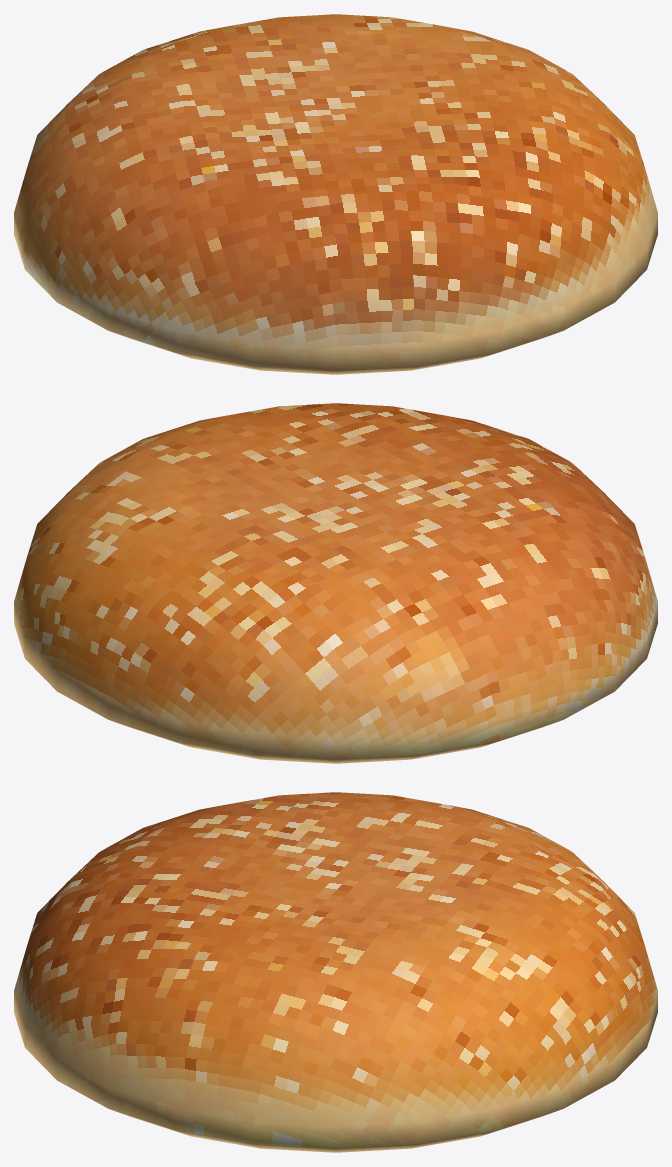
File: top-bun.glb
3 views of the same model, one above another, from view 1: azimuth 30°, elevation 25°; view 2: azimuth 150°, elevation 25°; view 3: azimuth 270°, elevation 25° (orthographic).
Visible parts, largest first — view 1: Circle.007; view 2: Circle.007; view 3: Circle.007.
Boxes of the visible parts, bbox=[...] form: Circle.007: bbox=[14, 14, 657, 374]; Circle.007: bbox=[14, 403, 657, 763]; Circle.007: bbox=[14, 792, 657, 1152].
Bounding box in the file's own units: 20 × 5.29 × 20.
Materials: 1 (1 with a texture image).
